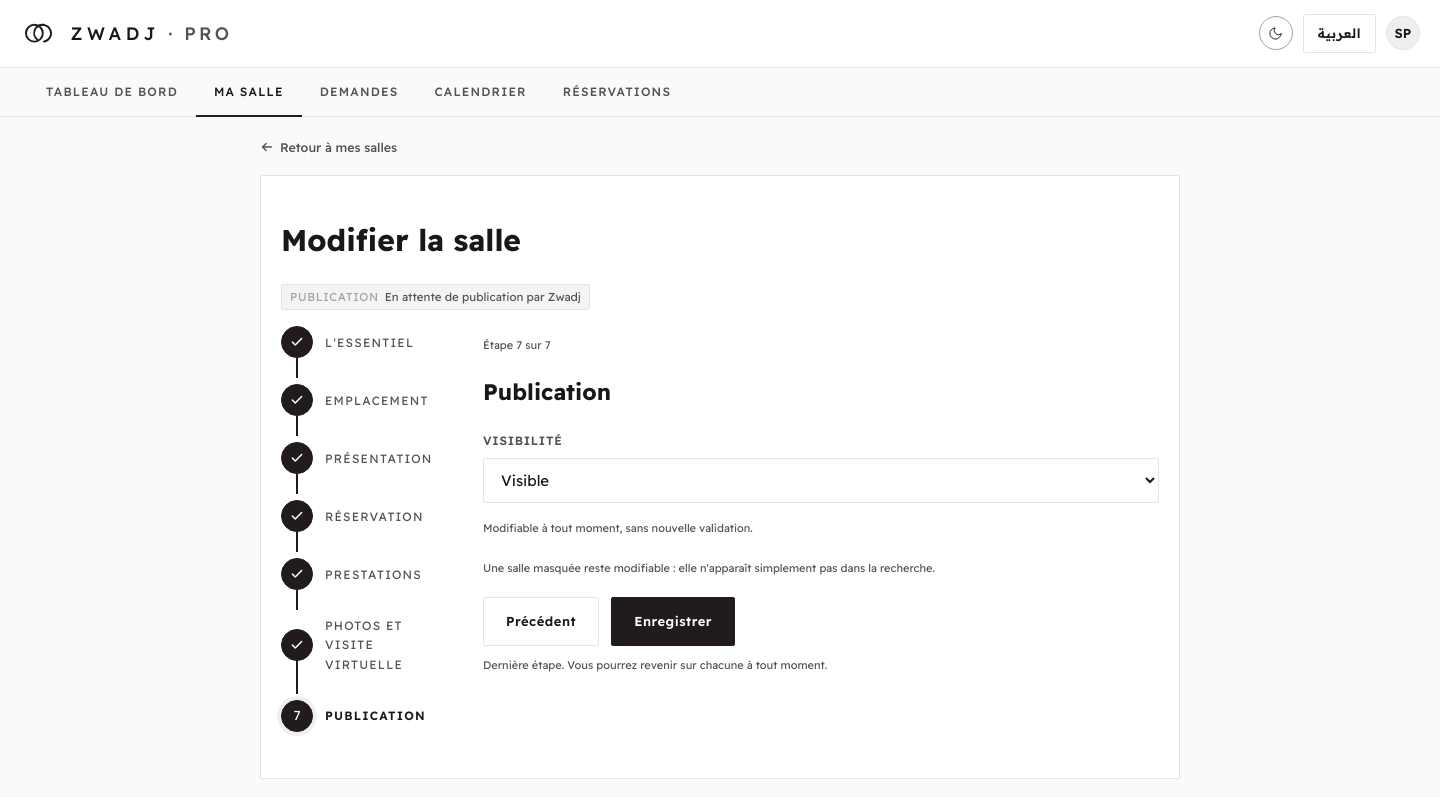
Test: Point 14 — « Enregistrer » à la dernière étape dit TOUJOURS ce qu'il a fait › ⚠ RÈGLE DES MONTANTS (point 14, étape 7) : une modification faite À l'étape 7 part, telle que saisie, et le message dit « enregistré »
Expected: the heading "Publication" is shown, x1=483 y1=376 x2=611 y2=406
Select "Masquée" in the dropdown labelled "Visibilité" at (821, 481), box x1=483 y1=458 x2=1159 y2=503
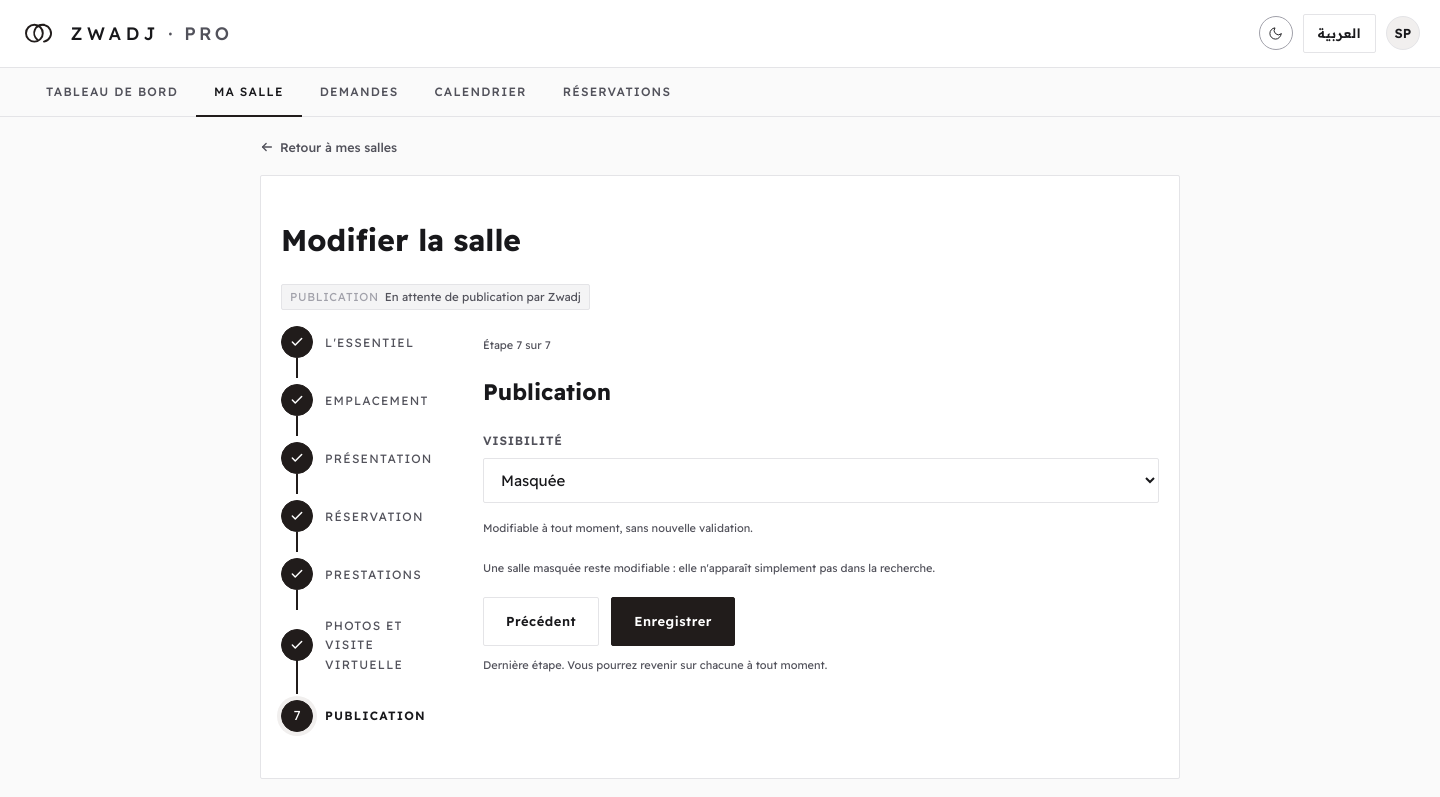
Click the button "Enregistrer" at (673, 622), box x1=611 y1=597 x2=735 y2=646
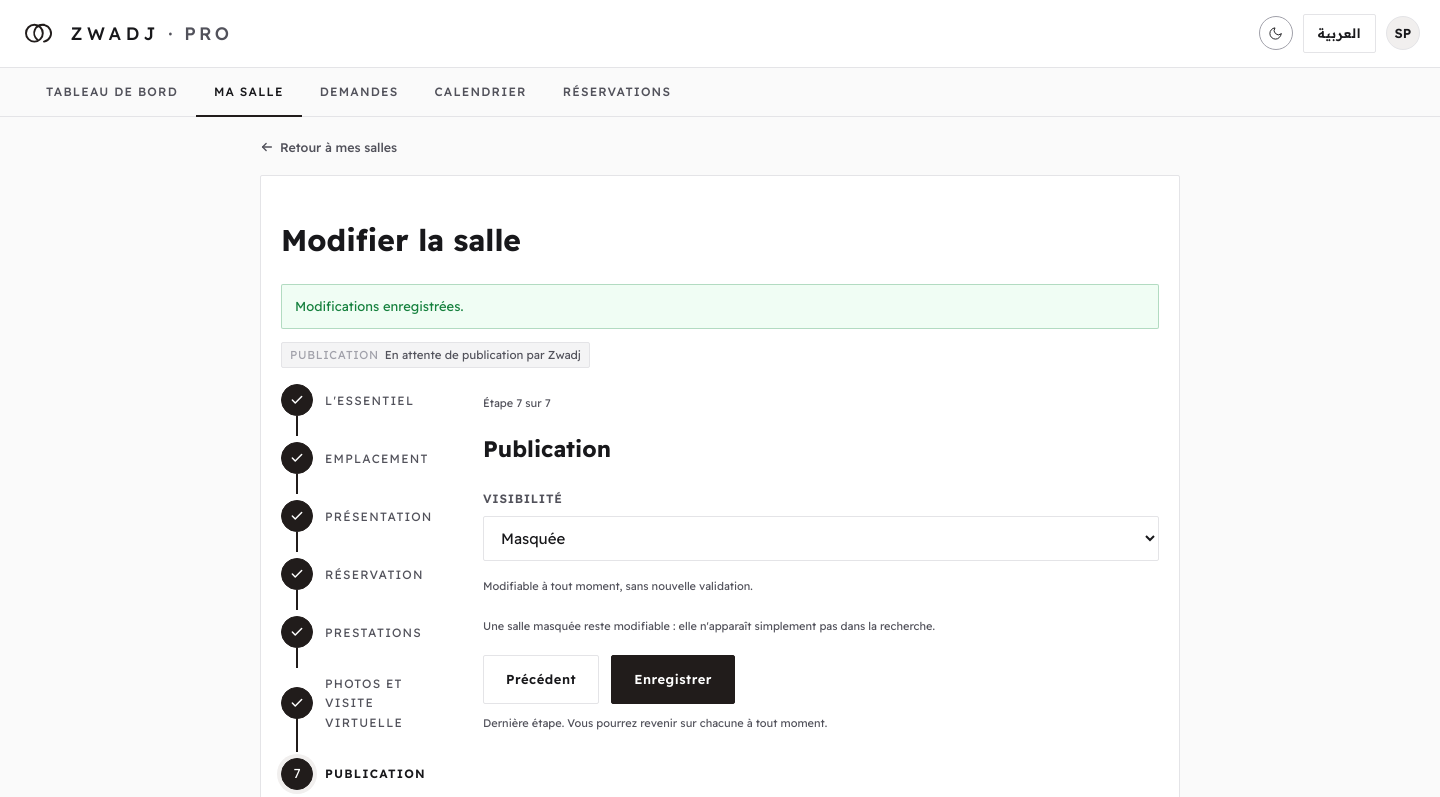
Result: the message reads "Modifications enregistrées." at x1=295 y1=298 x2=463 y2=314
